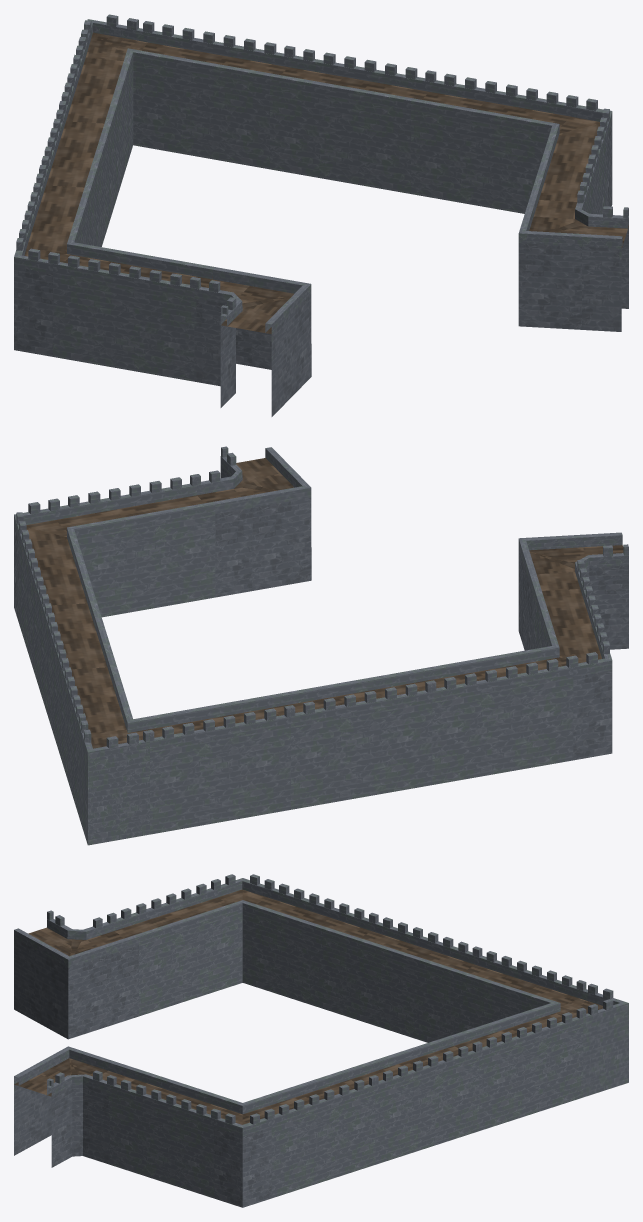
The model's file is SM_Fortress_Pointe.fbx.
The picture shows the model from 3 angles, top to bottom: view 1: azimuth 30°, elevation 25°; view 2: azimuth 150°, elevation 25°; view 3: azimuth 270°, elevation 25°; orthographic projection. The views are drawn at different scales.
Visible parts, largest first — view 1: polySurface1107; view 2: polySurface1107; view 3: polySurface1107.
Part boxes in pixels (x1,y1,x2,y2): polySurface1107: (14, 14, 628, 416); polySurface1107: (14, 446, 628, 845); polySurface1107: (14, 874, 628, 1207).
Size of the model in its own units: 4133 by 670 by 4293.
